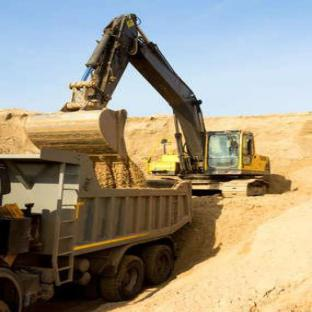ExcavationMachinery: (30, 12, 275, 196)
Vehicle: (2, 150, 193, 296)
